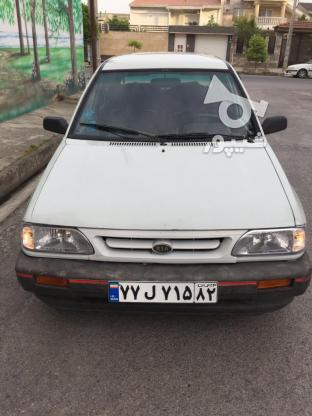car: (105, 280, 219, 304)
